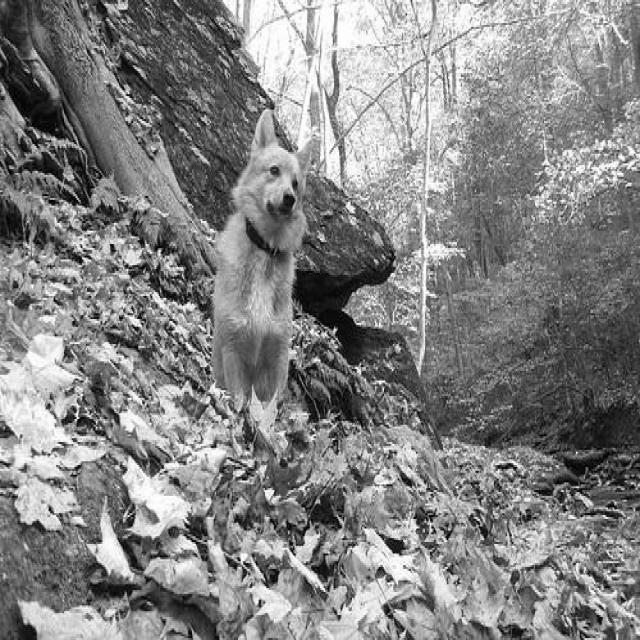sitting: (205, 102, 319, 414)
